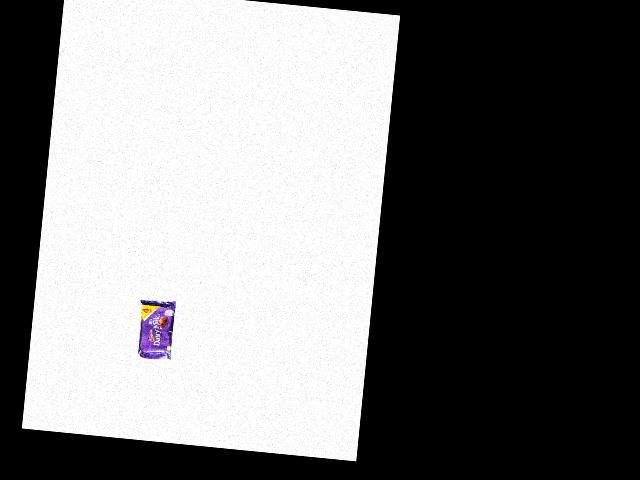chocolate: (135, 291, 181, 363)
